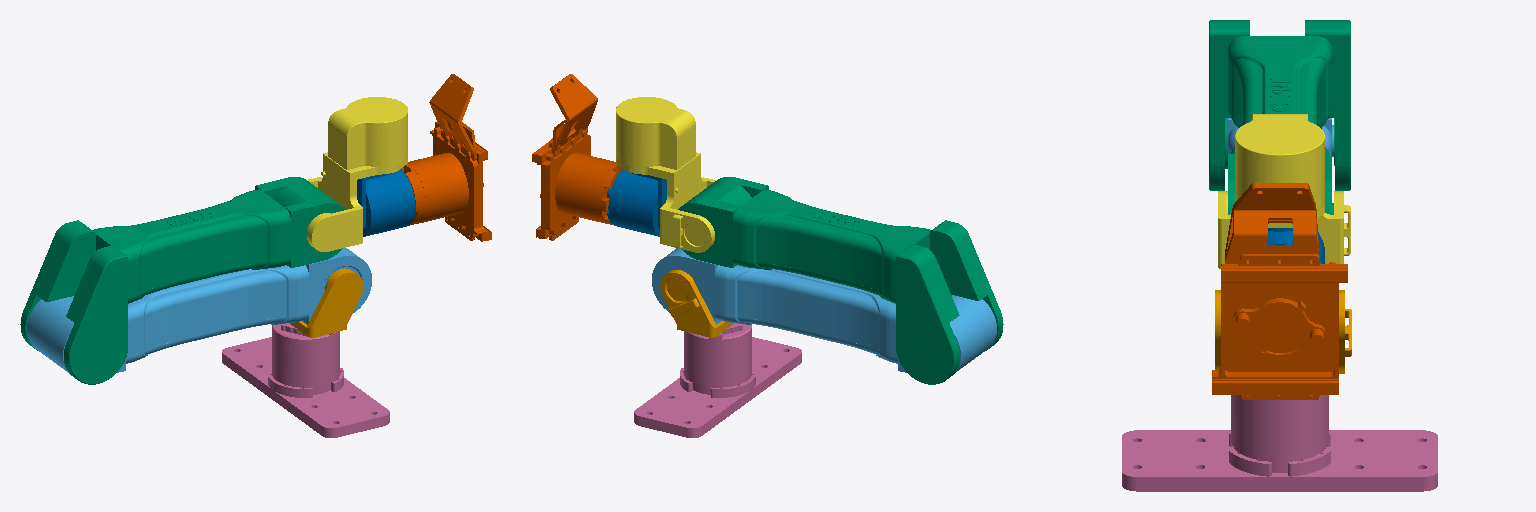
URDF robot description (yam_color):
<?xml version="1.0" encoding="UTF-8"?>
<robot name="yam_color">
  <joint name="joint1" type="revolute">
    <origin xyz="0. 0. 0.0631" rpy="1.5707964 -1.5707964 0. "/>
    <parent link="base_link"/>
    <child link="link_1"/>
    <axis xyz="1. 0. 0."/>
    <limit lower="-2.61799" upper="3.13" effort="10" velocity="10"/>
  </joint>
  <joint name="joint2" type="revolute">
    <origin xyz="0.0409 -0.02 -0.000025" rpy="1.5707964 1.5707963 0. "/>
    <parent link="link_1"/>
    <child link="link_2"/>
    <axis xyz="1. 0. 0."/>
    <limit lower="0." upper="3.65" effort="10" velocity="10"/>
  </joint>
  <joint name="joint3" type="revolute">
    <origin xyz="0. 0. -0.264" rpy="0. 0. 3.1415927"/>
    <parent link="link_2"/>
    <child link="link_3"/>
    <axis xyz="1. 0. 0."/>
    <limit lower="0." upper="3.13" effort="10" velocity="10"/>
  </joint>
  <joint name="joint4" type="revolute">
    <origin xyz="0. -0.06 0.245" rpy="0. 0. 0."/>
    <parent link="link_3"/>
    <child link="link_4"/>
    <axis xyz="1. 0. 0."/>
    <limit lower="-1.5708" upper="1.5708" effort="10." velocity="10"/>
  </joint>
  <joint name="joint5" type="revolute">
    <origin xyz="0.000025 -0.0395 0.074 " rpy="1.5707964 0. 1.5707964"/>
    <parent link="link_4"/>
    <child link="link_5"/>
    <axis xyz="1. 0. 0."/>
    <limit lower="-1.5708" upper="1.5708" effort="10." velocity="10"/>
  </joint>
  <joint name="joint6" type="revolute">
    <origin xyz="0.0395 0.0353 0. " rpy="0. 0. 1.5707964"/>
    <parent link="link_5"/>
    <child link="link_6"/>
    <axis xyz="1. 0. 0."/>
    <limit lower="-2.0944" upper="2.0944" effort="10." velocity="10"/>
  </joint>


  <link name="link_1">
    <inertial>
      <origin xyz="-0.00192861 -0.00795735 0.0208176" rpy="0. 0. 0."/>
      <mass value="0.12415"/>
      <inertia ixx="5.98038e-05" ixy="-4.5902e-06" ixz="7.411e-06" iyy="0.000169215" iyz="1.68342e-05" izz="0.000156182"/>
    </inertial>
    <visual>
      <origin xyz="-0.0632 0.0000002 -0.0000005" rpy="0. 1.5707963 0. "/>
      <geometry>
        <mesh filename="assets_2/link_1_visuals_model2__2_model2__2.obj" scale="1. 1. 1."/>

      </geometry>
    </visual>
  </link>
  <link name="link_2">
    <inertial>
      <origin xyz="0.132008 2.10599e-06 0.000293073" rpy="0. 0. 0."/>
      <mass value="1.24434"/>
      <inertia ixx="0.000683304" ixy="1.99503e-09" ixz="3.68337e-09" iyy="0.0121902" iyz="3.20067e-09" izz="0.0121318"/>
    </inertial>
    <visual>
      <origin xyz="-0.0000245 -0.1041 -0.0199992" rpy="-1.5707964 -0. 0. "/>
      <geometry>
        <mesh filename="assets_2/link_2_visuals_model2__3_model2__3.obj" scale="1. 1. 1."/>
      </geometry>
    </visual>
    <visual>
      <origin xyz="-0.0000245 -0.1041 -0.0199992" rpy="-1.5707964 -0. 0. "/>
      <geometry>
        <mesh filename="assets_2/link_2_visuals_model2__4_model2__4.obj" scale="1. 1. 1."/>
      </geometry>
    </visual>
    <visual>
      <origin xyz="-0.0000245 -0.1041 -0.0199992" rpy="-1.5707964 -0. 0. "/>
      <geometry>
        <mesh filename="assets_2/link_2_visuals_model2__5_model2__5.obj" scale="1. 1. 1."/>
      </geometry>
    </visual>
  </link>
  <link name="link_3">
    <inertial>
      <origin xyz="-0.121816 -0.054846 -0.000111108" rpy="0 0 0"/>
      <mass value="0.853698"/>
      <inertia ixx="0.000835003" ixy="-0.000536647" ixz="-1.03114e-05" iyy="0.00694973" iyz="-6.38588e-06" izz="0.00696195"/>
    </inertial>
    <visual>
      <origin xyz="0.0000245 0.104101 0.244001 " rpy="-1.5707964 0. 3.1415927"/>
      <geometry>
        <mesh filename="assets_2/link_3_visuals_model2__6_model2__6.obj" scale="1. 1. 1."/>
      </geometry>
    </visual>
    <visual>
      <origin xyz="0.0000245 0.104101 0.244001 " rpy="-1.5707964 0. 3.1415927"/>
      <geometry>
        <mesh filename="assets_2/link_3_visuals_model2__7_model2__7.obj" scale="1. 1. 1."/>
      </geometry>
    </visual>
    <visual>
      <origin xyz="0.0000245 0.104101 0.244001 " rpy="-1.5707964 0. 3.1415927"/>
      <geometry>
        <mesh filename="assets_2/link_3_visuals_model2__8_model2__8.obj" scale="1. 1. 1."/>
      </geometry>
    </visual>
    <visual>
      <origin xyz="0.0000245 0.104101 0.244001 " rpy="-1.5707964 0. 3.1415927"/>
      <geometry>
        <mesh filename="assets_2/link_3_visuals_model2__9_model2__9.obj" scale="1. 1. 1."/>
      </geometry>
    </visual>
  </link>
  <link name="link_4">
    <inertial>
      <origin xyz="-0.0569778 -0.0527104 0.000154878" rpy="0. 0. 0."/>
      <mass value="0.463511"/>
      <inertia ixx="0.000582374" ixy="-0.000250406" ixz="-7.15749e-06" iyy="0.000491129" iyz="-3.22486e-06" izz="0.000744878"/>
    </inertial>
    <visual>
      <origin xyz="0.0000245 0.164101 -0.0010002" rpy="-1.5707964 0. -3.1415927"/>
      <geometry>
        <mesh filename="assets_2/link_4_visuals_model2__10_model2__10.obj" scale="1. 1. 1."/>
      </geometry>
    </visual>
  </link>
  <link name="link_5">
    <inertial>
      <origin xyz="3.64861e-05 0.00025665 0.0353526" rpy="0. 0. 0."/>
      <mass value="0.350962"/>
      <inertia ixx="0.000197798" ixy="-3.20004e-07" ixz="-2.01757e-07" iyy="0.000172615" iyz="-1.10998e-05" izz="0.000152291"/>
    </inertial>
    <visual>
      <origin xyz="0.203601 -0.0749971 0. " rpy="3.14159 1.5707964 0. "/>
      <geometry>
        <mesh filename="assets_2/link_5_visuals_model2__11_model2__11.obj" scale="1. 1. 1."/>
      </geometry>
    </visual>
  </link>
  <link name="link_6">
    <inertial>
      <origin xyz="-0.000217767 7.37059e-05 0.0270545" rpy="0. 0. 0."/>
      <mass value="0.367476"/>
      <inertia ixx="0.000265958" ixy="0" ixz="0" iyy="0.000242686" iyz="0" izz="0.000227409"/>
    </inertial>
    <visual>
      <origin xyz="-0.110597 -0.164101 -0. " rpy="-1.5707963 1.5707963 0. "/>
      <geometry>
        <mesh filename="assets_2/link_6_visuals_model2__12_model2__12.obj" scale="1. 1. 1."/>
      </geometry>
    </visual>
    <visual>
      <origin xyz="-0.110597 -0.164101 -0. " rpy="-1.5707963 1.5707963 0. "/>
      <geometry>
        <mesh filename="assets_2/link_6_visuals_model2__13_model2__13.obj" scale="1. 1. 1."/>
      </geometry>
    </visual>
    <visual>
      <origin xyz="0.05 0.05 0.035 " rpy="-1.5707963 3.1415 0. "/>
      <geometry>
        <mesh filename="assets_2/new_camera_mount.obj" scale="0.001 0.001 0.001"/>
      </geometry>
    </visual>
    <visual>
      <origin xyz="0.0653 0.0843 -0.0005 " rpy="-0.22 1.5707963 -0.92 "/>
      <geometry>
        <mesh filename="assets_2/camera_enclosure.obj" scale="0.001 0.001 0.001"/>
      </geometry>
    </visual>
     <visual>
      <origin xyz="0.06 0. 0." rpy=" 1.57079632679 1.57079632679 0"/>
      <geometry>
        <mesh filename="assets/tip.stl"/>
      </geometry>
      <material name="tip_material">
        <color rgba="0.138 0.270 0.609 1"/>
      </material>
    </visual>
    <collision>
      <origin xyz="0 0 -0.05" rpy="1.57079632679 1.57079632679 0"/>
      <geometry>
        <mesh filename="assets/tip.stl"/>
      </geometry>
    </collision>
  </link>

  <link name="base_link">
    <inertial>
      <origin xyz="-7.22812e-05 2.52572e-05 0.0159932" rpy="0 0 0"/>
      <mass value="0.822546"/>
      <inertia ixx="0.00169415" ixy="2.43507e-07" ixz="-1.31515e-07" iyy="0.00066093" iyz="-9.11171e-07" izz="0.00155626"/>
    </inertial>
    <visual>
      <origin xyz="0. 0. -0.0006" rpy="0. 0. 1.5707963"/>
      <geometry>
        <mesh filename="assets_2/base_link_visuals_model2_model2.obj" scale="1. 1. 1."/>
      </geometry>
    </visual>
  </link>
</robot>

--- Facts derived from the render (not from the file) ---
The picture shows the robot from 3 angles, left to right: view 1: azimuth 30°, elevation 25°; view 2: azimuth 150°, elevation 25°; view 3: azimuth 270°, elevation 25°; orthographic projection.
Robot: yam_color — 7 links, 6 joints (6 revolute); root link base_link; default pose: all joints at 0.
Links seen in each view (by area): view 1: link_3, link_2, base_link, link_4, link_6, link_5, link_1; view 2: link_3, link_2, base_link, link_4, link_6, link_5, link_1; view 3: link_6, base_link, link_3, link_4, link_1, link_5, link_2.
Link boxes in pixels (x1=…): link_3: x1=20, y1=177, x2=345, y2=384; link_2: x1=27, y1=248, x2=371, y2=372; base_link: x1=222, y1=323, x2=389, y2=437; link_4: x1=307, y1=97, x2=407, y2=251; link_6: x1=401, y1=74, x2=491, y2=241; link_5: x1=357, y1=169, x2=415, y2=236; link_1: x1=290, y1=268, x2=363, y2=337; link_3: x1=678, y1=177, x2=1003, y2=384; link_2: x1=652, y1=248, x2=996, y2=372; base_link: x1=634, y1=323, x2=801, y2=437; link_4: x1=616, y1=97, x2=716, y2=252; link_6: x1=532, y1=74, x2=622, y2=240; link_5: x1=607, y1=169, x2=666, y2=236; link_1: x1=660, y1=270, x2=733, y2=337; link_6: x1=1212, y1=183, x2=1347, y2=399; base_link: x1=1122, y1=395, x2=1437, y2=491; link_3: x1=1209, y1=20, x2=1350, y2=214; link_4: x1=1218, y1=114, x2=1350, y2=268; link_1: x1=1215, y1=290, x2=1351, y2=373; link_5: x1=1268, y1=228, x2=1324, y2=263; link_2: x1=1228, y1=118, x2=1333, y2=156.
Bounding box of the posed robot: 0.4468 × 0.2 × 0.2757 m (x, y, z).
Meshes: 16 distinct files referenced, 14 mesh visuals loaded (14 OBJ); not drawn: 2 (reference not matched to a file when rendering).
